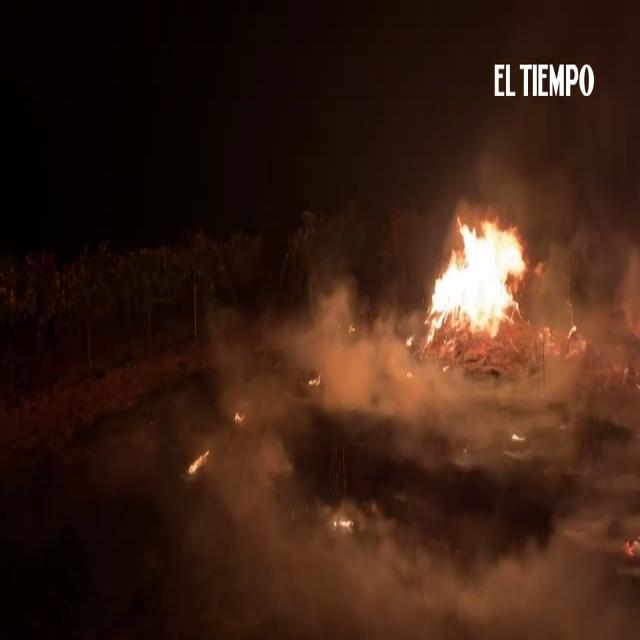Fire: (413, 202, 526, 342), (185, 448, 209, 476), (306, 372, 322, 387), (337, 514, 355, 526), (404, 330, 412, 350), (234, 407, 244, 423)
